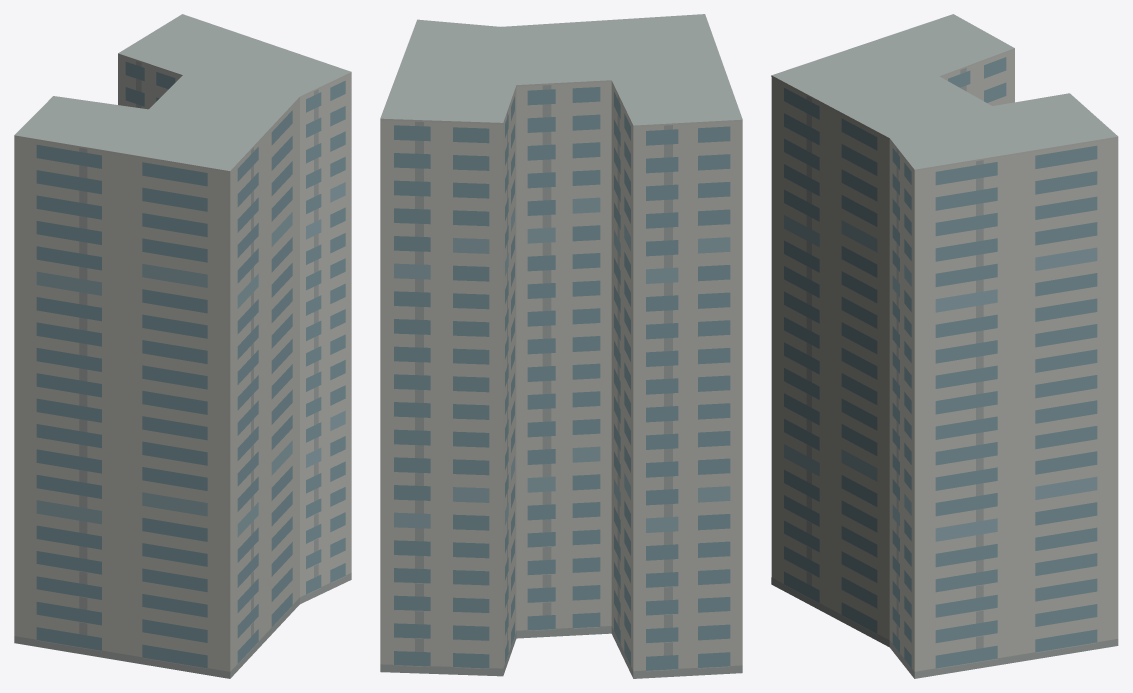
File: residential-c4a127d1-90f1-4eff-b2ef-53dbacecb031.glb
The picture shows the model from 3 angles, left to right: view 1: azimuth 30°, elevation 25°; view 2: azimuth 150°, elevation 25°; view 3: azimuth 270°, elevation 25°; orthographic projection. The views are drawn at different scales.
Parts seen in each view (by area): view 1: residential-c4a127d1-90f1-4eff-b2ef-53dbacecb031.tmp; view 2: residential-c4a127d1-90f1-4eff-b2ef-53dbacecb031.tmp; view 3: residential-c4a127d1-90f1-4eff-b2ef-53dbacecb031.tmp.
Boxes of the visible parts, x1,y1,x2,y2 form: residential-c4a127d1-90f1-4eff-b2ef-53dbacecb031.tmp: [14, 14, 351, 678]; residential-c4a127d1-90f1-4eff-b2ef-53dbacecb031.tmp: [380, 14, 742, 678]; residential-c4a127d1-90f1-4eff-b2ef-53dbacecb031.tmp: [771, 14, 1118, 678].
Size of the model in its own units: 52.46 by 80 by 49.4.
